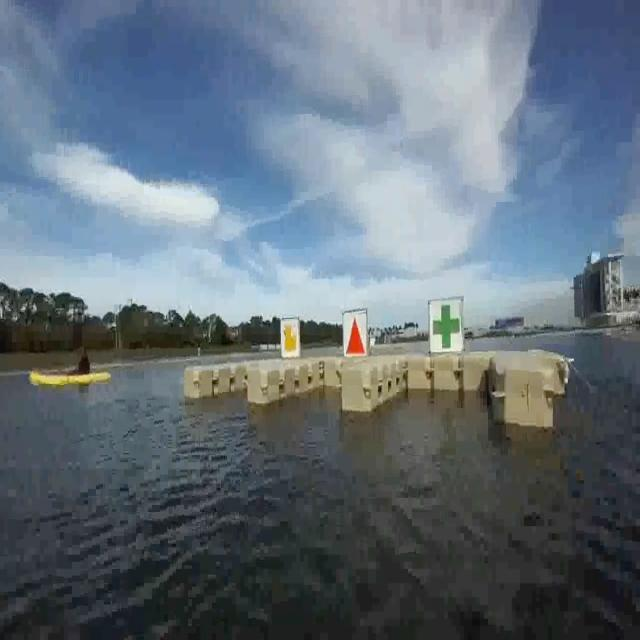blue-cross: (430, 296, 464, 351)
red-column-buoy: (344, 314, 367, 354)
yellow-duck: (279, 313, 300, 356)
